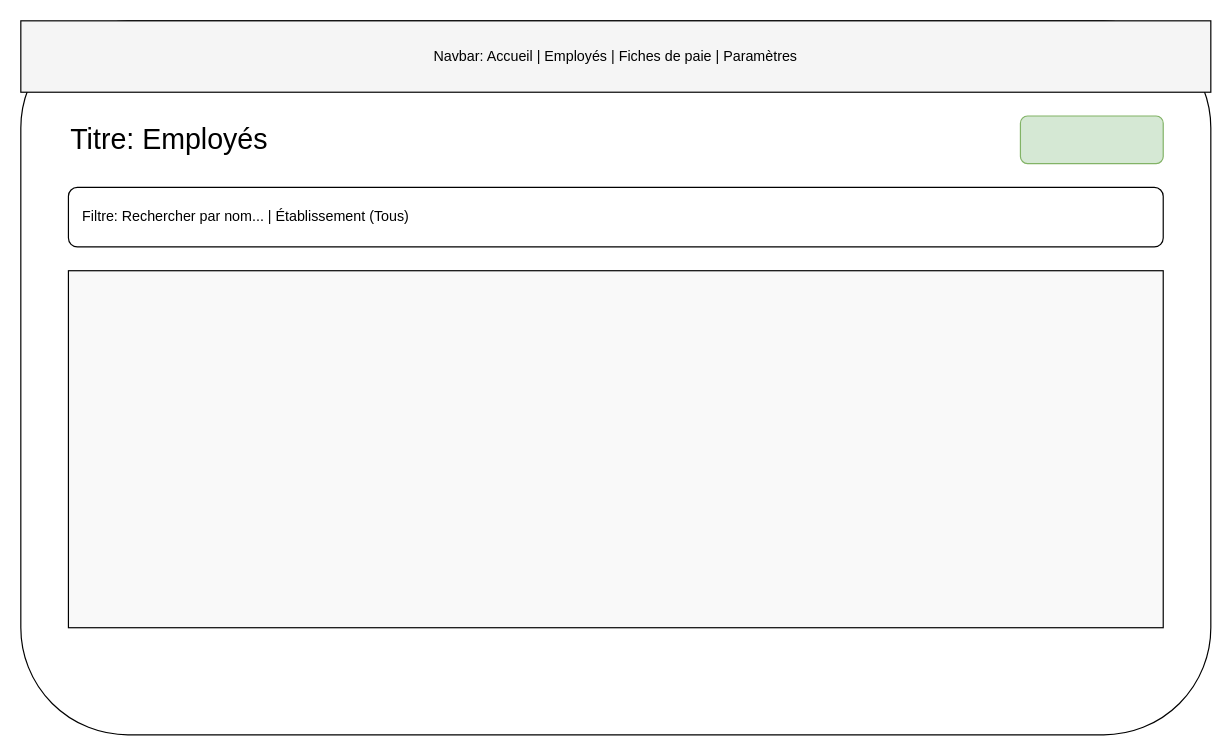
Image size: 1232x756. Some labels were removed from this diagram. The box of each missing label's shape, as (x1, y1, x2, y2) in pixels:
Bouton: + Nouveau: (1019, 115, 1163, 164)
Tableau: Employé | Établissement | Salaire de base | Congés | Actions: (67, 270, 1163, 628)
